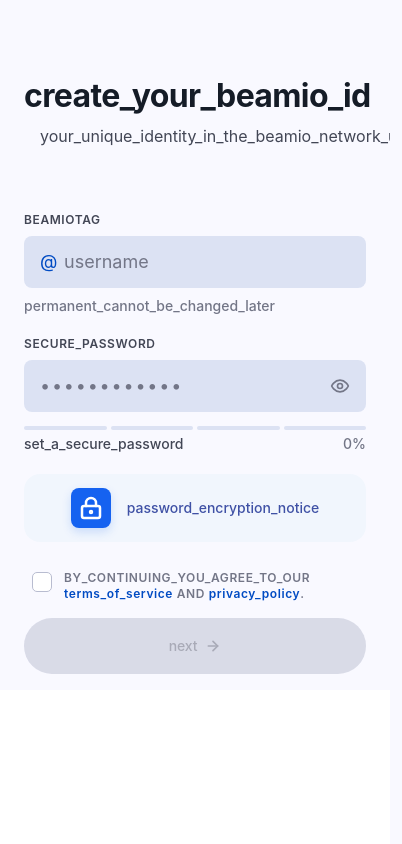
browser branch: every failed attempt shows its error › a local failure keeps its own message (the specific reason is not overwritten by the generic one)
This screenshot has width=402, height=844.
Type "synthtag01" into the field with id "create-beamio-tag-input" at point(195, 262), box [24, 236, 366, 288]
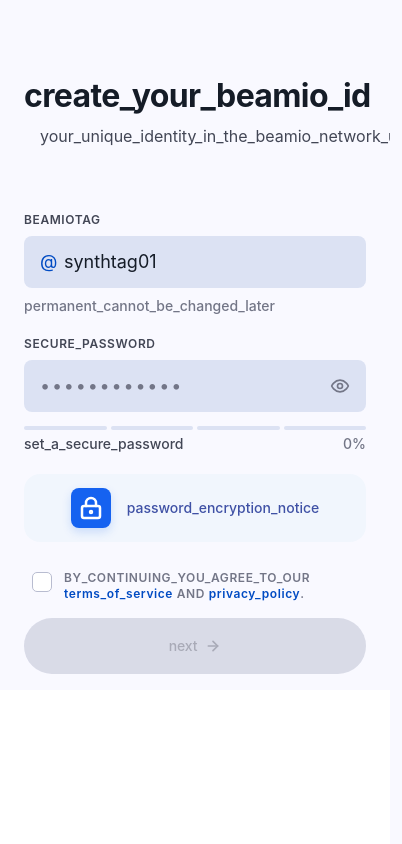
Type "Abcdefg1" into the password field with id "create-wallet-password" at point(195, 386), box [24, 360, 366, 412]
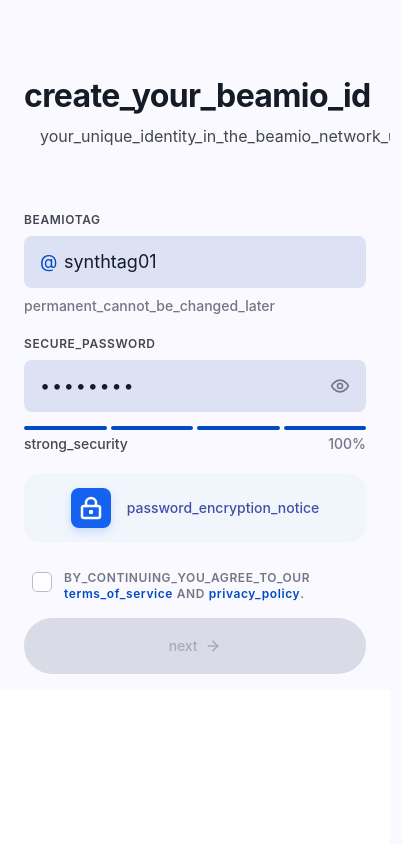
Click the checkbox at point(42, 582), box [32, 572, 52, 592]
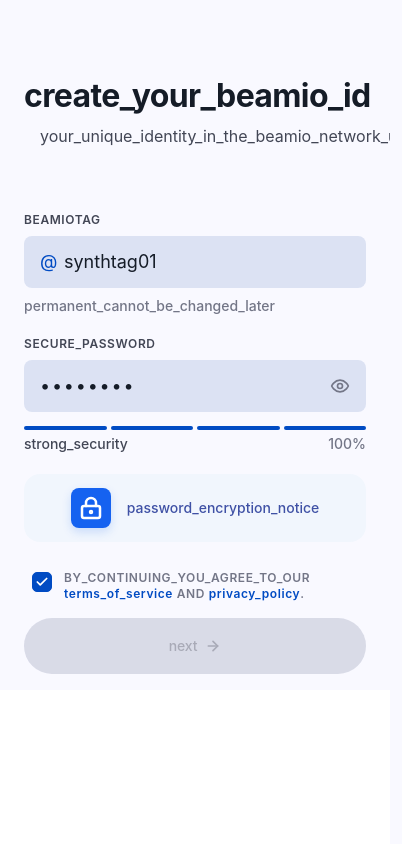
Leave the field with id "create-beamio-tag-input", box [24, 236, 366, 288]
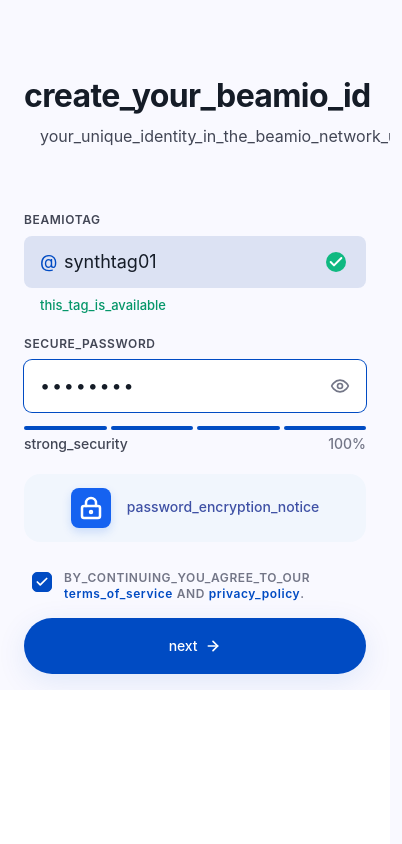
Expected: the button "next" is enabled
Click the button "next" at point(195, 646), box [24, 618, 366, 674]
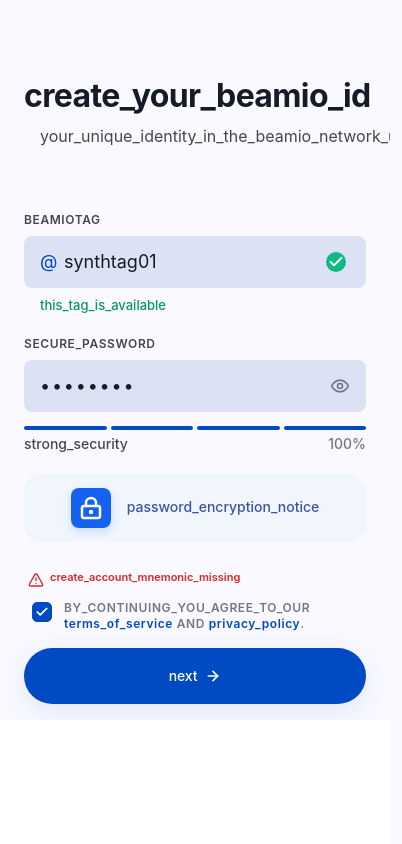
Expected: the text "create_account_mnemonic_missing" is shown, [50, 570, 240, 585]
